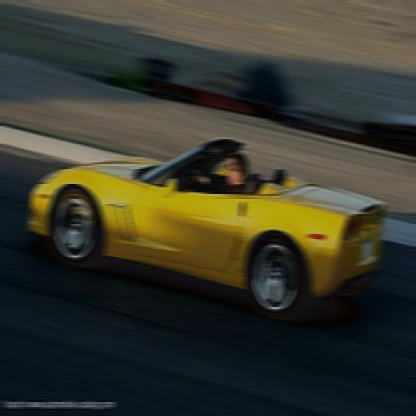Vehicle: (27, 135, 386, 323)
